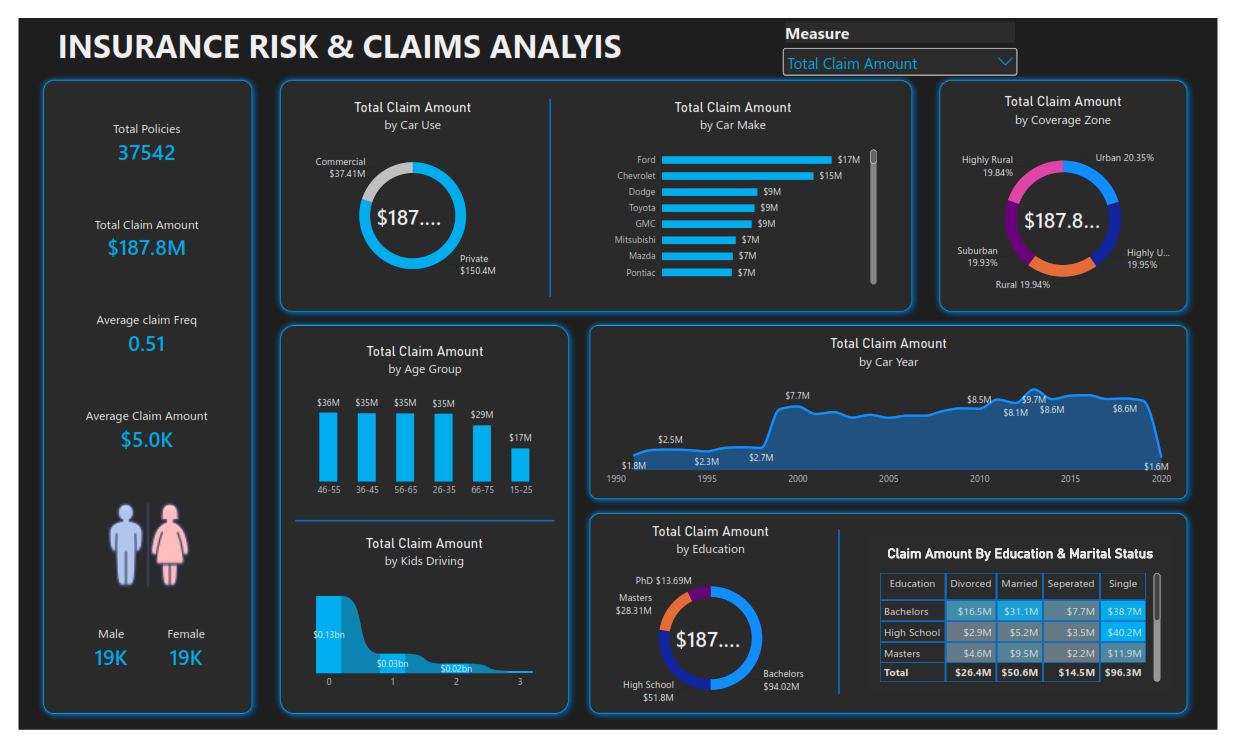

The dashboard page shown, as its layout file describes it:
{"tool":"powerbi","page":{"name":"Page 1","canvas":[1600,950],"ordinal":0},"visuals":[{"type":"shape","box":[24,73.8,296.7,864.5],"z":0},{"type":"textbox","box":[51.8,6.9,759.9,66.9],"z":1000},{"type":"cardVisual","fields":{"Data":["insurance_data_car.Total Policies","insurance_data_car.Total Claim Amount","Avg(insurance_data_car.Claim Freq)","insurance_data_car.Average Claim Amount"]},"box":[20.6,108.1,300.2,504.3],"z":2000},{"type":"cardVisual","fields":{"Data":["insurance_data_car.Male Count","insurance_data_car.Female Count"]},"box":[78.9,778.7,190.4,125.2],"z":3000},{"type":"image","box":[65.2,644.9,214.4,116.6],"z":4000},{"type":"slicer","fields":{"Values":["measure.measure"]},"box":[1015.4,5.1,322.5,73.8],"z":5000},{"type":"shape","box":[339.6,73.8,862.8,327.6],"z":6000},{"type":"shape","box":[753,401.4,816.5,250.4],"z":7000},{"type":"shape","box":[339.6,401.4,404.8,536.9],"z":8000},{"type":"shape","box":[1219.6,73.8,349.9,327.6],"z":9000},{"type":"donutChart","fields":{"Y":["insurance_data_car.Total Claim Amount"],"Category":["insurance_data_car.Car Use"]},"box":[363.6,94.3,324.2,281.3],"z":10000},{"type":"clusteredBarChart","fields":{"Y":["insurance_data_car.Total Claim Amount"],"Category":["insurance_data_car.Car Make"]},"box":[746.1,94.3,415.1,277.9],"z":11000},{"type":"donutChart","fields":{"Y":["insurance_data_car.Total Claim Amount"],"Category":["insurance_data_car.Coverage Zone"]},"box":[1231.6,87.5,324.2,303.6],"z":12000},{"type":"shape","box":[682.7,108.1,53.2,264.2],"z":13000},{"type":"clusteredColumnChart","fields":{"Y":["insurance_data_car.Total Claim Amount"],"Category":["insurance_data_car.Age Group"]},"box":[365.4,420.2,355.1,240.1],"z":14000},{"type":"ribbonChart","fields":{"Y":["insurance_data_car.Total Claim Amount"],"Category":["insurance_data_car.Kids Driving"]},"box":[363.6,675.8,355.1,240.1],"z":15000},{"type":"shape","box":[368.8,651.8,346.5,37.7],"z":16000},{"type":"areaChart","fields":{"Y":["insurance_data_car.Total Claim Amount"],"Category":["insurance_data_car.Car Year"]},"box":[768.4,409.9,785.6,235],"z":17000},{"type":"shape","box":[753,651.8,816.5,286.5],"z":18000},{"type":"donutChart","fields":{"Y":["insurance_data_car.Total Claim Amount"],"Category":["insurance_data_car.Education"]},"box":[771.9,660.4,303.6,277.9],"z":19000},{"type":"pivotTable","title":"Claim Amount By Education & Marital Status","fields":{"Rows":["insurance_data_car.Education"],"Columns":["insurance_data_car.Marital Status"],"Values":["insurance_data_car.Total Claim Amount"]},"box":[1133.8,689.5,406.5,212.7],"z":20000},{"type":"shape","box":[1075.5,682.7,39.5,219.6],"z":20001}]}

Visuals, with their boxes in screenshot pixels (x1, y1, x2, y2), scaled from the page's 1600x950 canvas onto the 1236x748 screenshot:
shape: (left=19, top=58, right=248, bottom=739)
textbox: (left=40, top=5, right=627, bottom=58)
cardVisual - insurance_data_car.Total Policies x insurance_data_car.Total Claim Amount: (left=16, top=85, right=248, bottom=482)
cardVisual - insurance_data_car.Male Count x insurance_data_car.Female Count: (left=61, top=613, right=208, bottom=712)
image: (left=50, top=508, right=216, bottom=600)
slicer - measure.measure: (left=784, top=4, right=1034, bottom=62)
shape: (left=262, top=58, right=929, bottom=316)
shape: (left=582, top=316, right=1212, bottom=513)
shape: (left=262, top=316, right=575, bottom=739)
shape: (left=942, top=58, right=1212, bottom=316)
donutChart - insurance_data_car.Total Claim Amount x insurance_data_car.Car Use: (left=281, top=74, right=531, bottom=296)
clusteredBarChart - insurance_data_car.Total Claim Amount x insurance_data_car.Car Make: (left=576, top=74, right=897, bottom=293)
donutChart - insurance_data_car.Total Claim Amount x insurance_data_car.Coverage Zone: (left=951, top=69, right=1202, bottom=308)
shape: (left=527, top=85, right=568, bottom=293)
clusteredColumnChart - insurance_data_car.Total Claim Amount x insurance_data_car.Age Group: (left=282, top=331, right=557, bottom=520)
ribbonChart - insurance_data_car.Total Claim Amount x insurance_data_car.Kids Driving: (left=281, top=532, right=555, bottom=721)
shape: (left=285, top=513, right=553, bottom=543)
areaChart - insurance_data_car.Total Claim Amount x insurance_data_car.Car Year: (left=594, top=323, right=1200, bottom=508)
shape: (left=582, top=513, right=1212, bottom=739)
donutChart - insurance_data_car.Total Claim Amount x insurance_data_car.Education: (left=596, top=520, right=831, bottom=739)
"Claim Amount By Education & Marital Status" pivotTable: (left=876, top=543, right=1190, bottom=710)
shape: (left=831, top=538, right=861, bottom=710)
